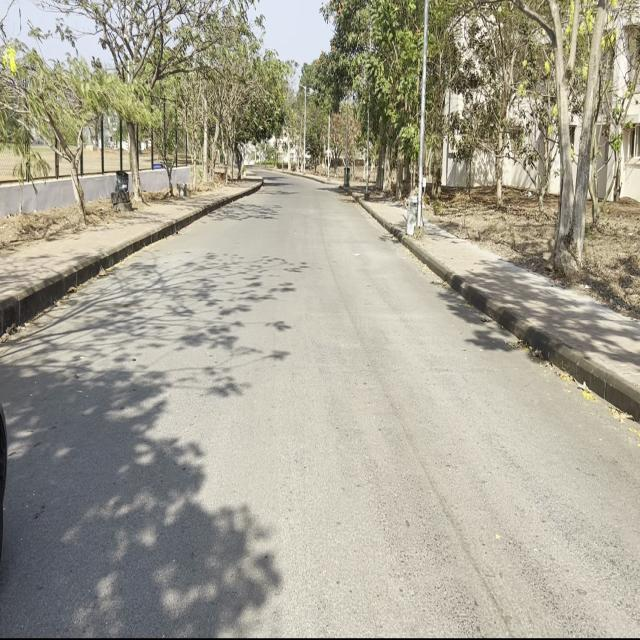Road: (4, 175, 636, 631)
